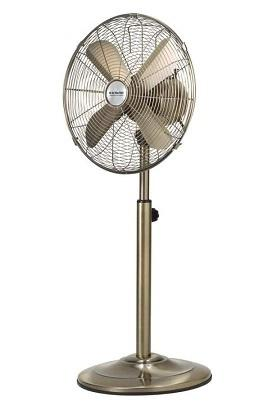fan: (44, 0, 215, 409)
